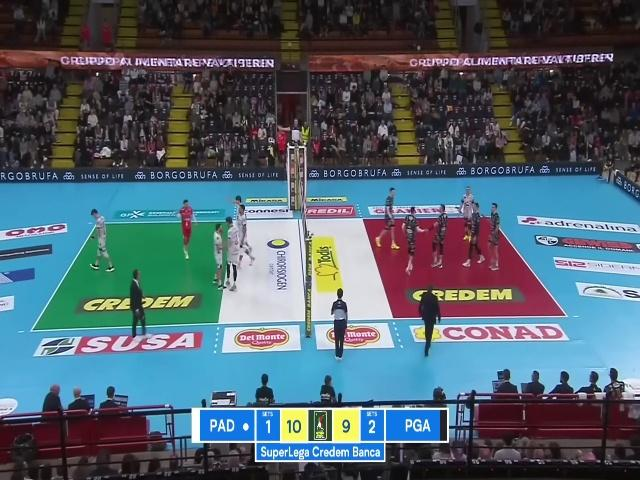volleyball court: (30, 214, 570, 331)
